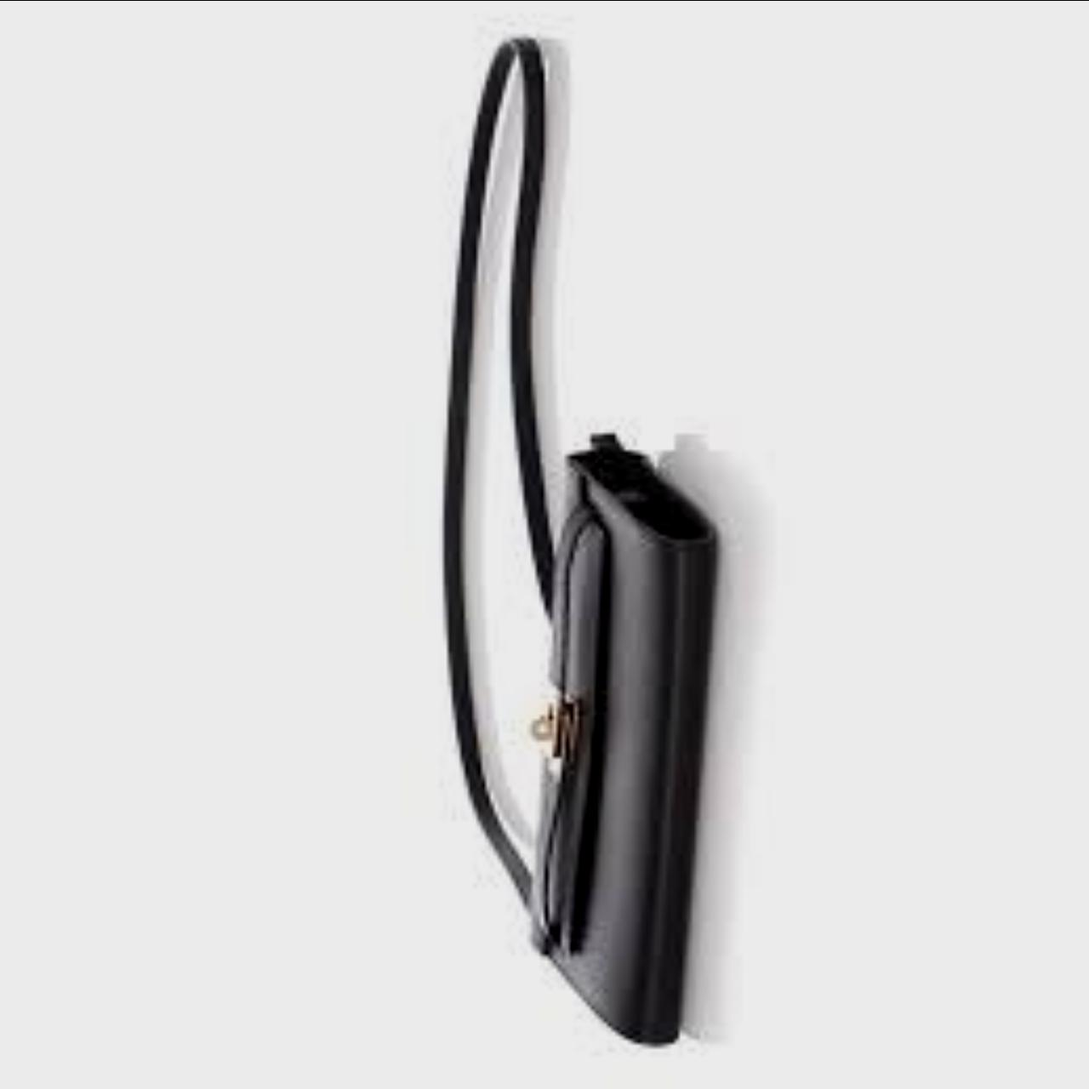wallet: (512, 421, 742, 1043)
